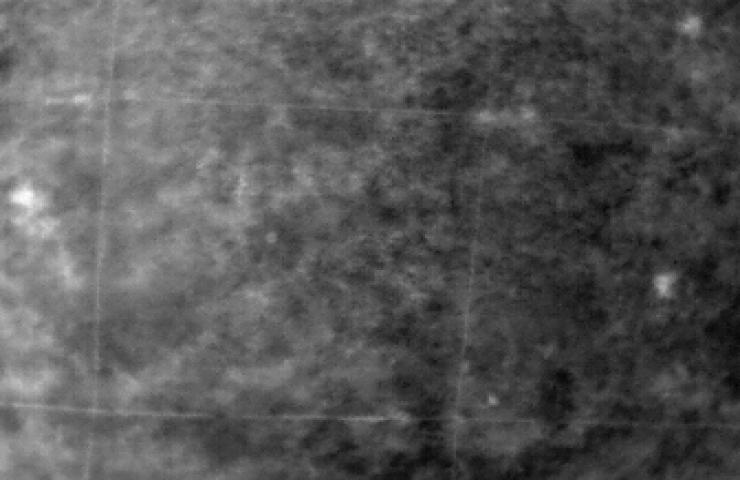landmines: (675, 14, 712, 38), (653, 271, 678, 295), (11, 185, 37, 207), (263, 229, 283, 247)
